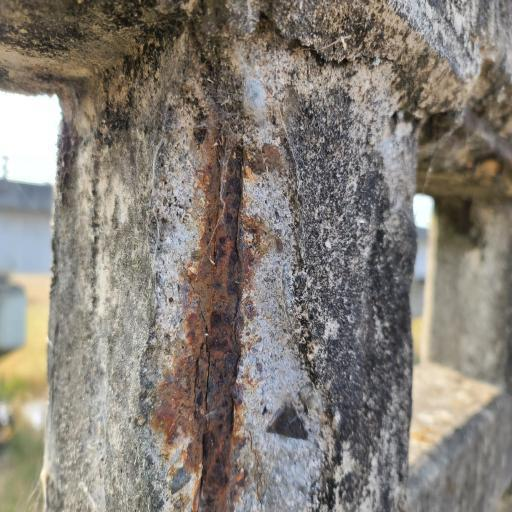exposed_rebar: (199, 130, 242, 509)
